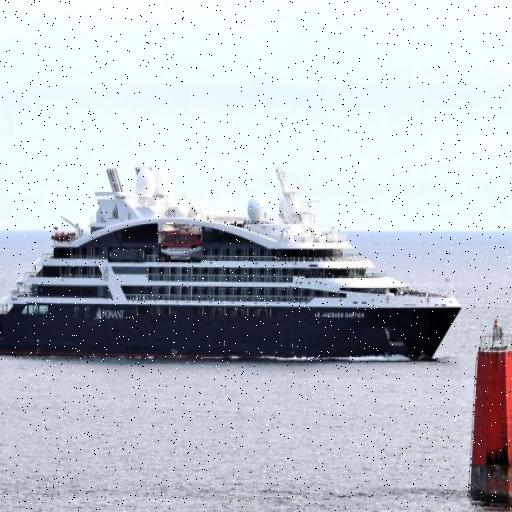cruises: (1, 160, 468, 374)
